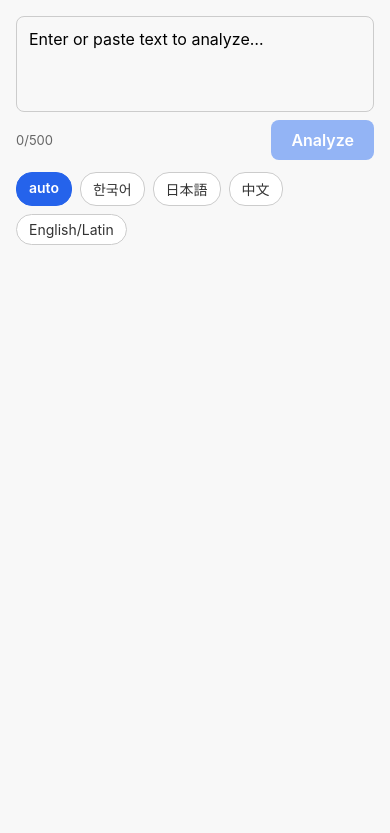
HomeScreen submit flow › sends the language hint when an override is picked
The width and height of the screenshot is (390, 833).
expect the button "Analyze" is shown: met, box [271,120,374,160]
Click the radio button labelled "日本語". click: point(187, 189)
box: [153,172,221,206]
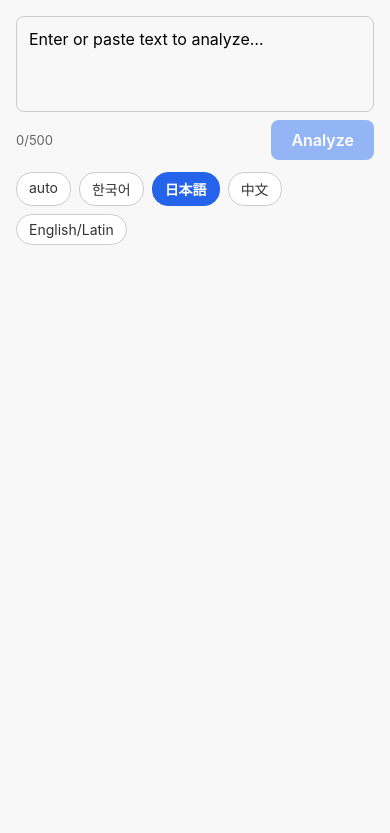
Type "私は毎朝コーヒーを飲みます" into the text box labelled "text to analyze". click: point(195, 64)
box: [16,16,374,112]
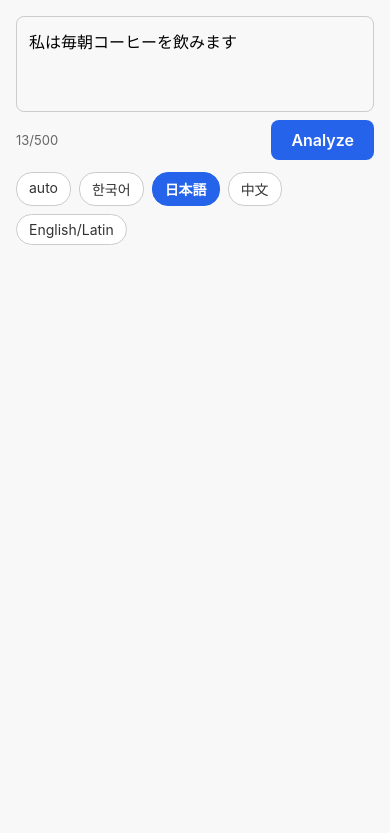
Click the button "Analyze". click: point(323, 140)
box: [271,120,374,160]
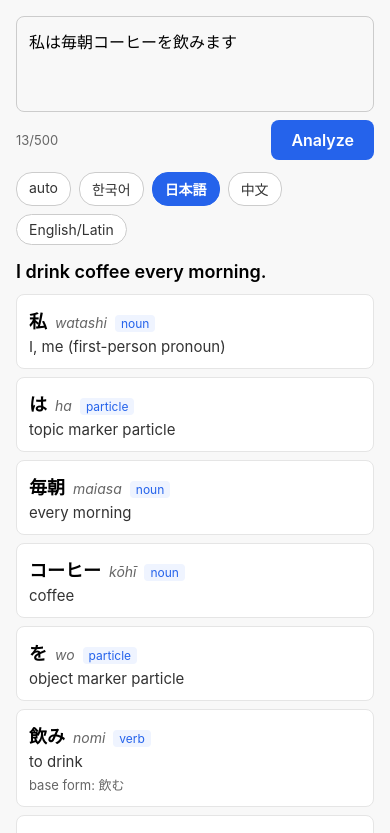
expect the heading "I drink coffee every morning." is shown: met, box [16,261,267,282]
